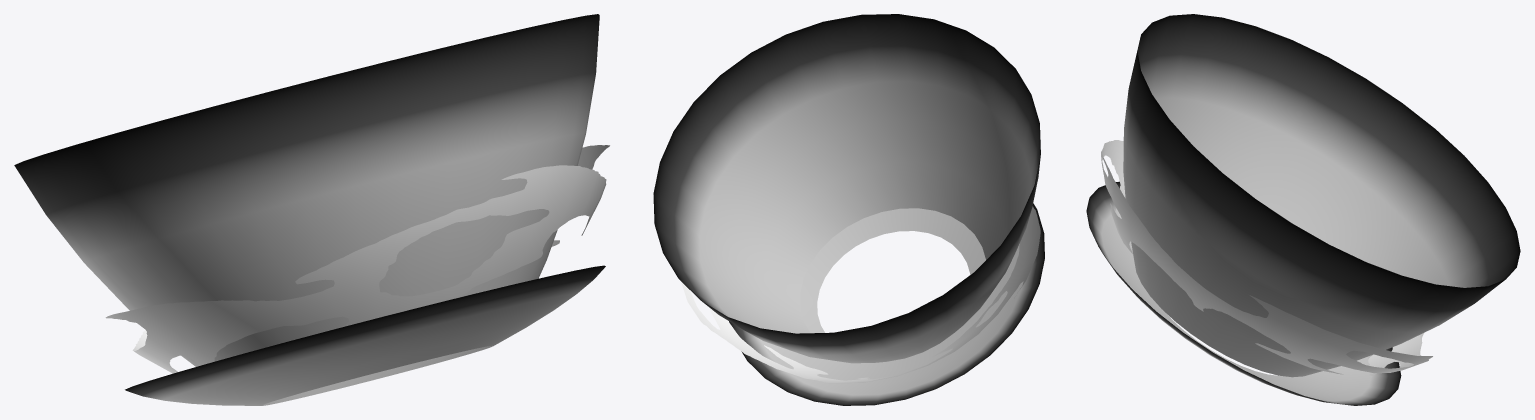
Rendered from fx_cookie0030_snowking_recall.fbx.
3 renders of one model, left to right at view 1: azimuth 30°, elevation 25°; view 2: azimuth 150°, elevation 25°; view 3: azimuth 270°, elevation 25°, orthographic. The views are drawn at different scales.
Visible parts, largest first — view 1: Ground_Shockwave-Add2, Ground_Shockwave-Add2 (1), Ground_Shockwave-Add; view 2: Ground_Shockwave-Add2, Ground_Shockwave-Add, Ground_Shockwave-Add2 (1); view 3: Ground_Shockwave-Add2, Ground_Shockwave-Add2 (1), Ground_Shockwave-Add.
Boxes of the visible parts, x1,y1,x2,y2 form: Ground_Shockwave-Add2: (14, 14, 599, 366); Ground_Shockwave-Add2 (1): (105, 145, 609, 373); Ground_Shockwave-Add: (125, 265, 605, 405); Ground_Shockwave-Add2: (653, 14, 1040, 363); Ground_Shockwave-Add: (729, 203, 1044, 405); Ground_Shockwave-Add2 (1): (681, 206, 1040, 383); Ground_Shockwave-Add2: (1123, 14, 1520, 377); Ground_Shockwave-Add2 (1): (1101, 140, 1432, 375); Ground_Shockwave-Add: (1086, 181, 1401, 405).
Bounding box in the file's own units: 1181 × 959 × 1159.
